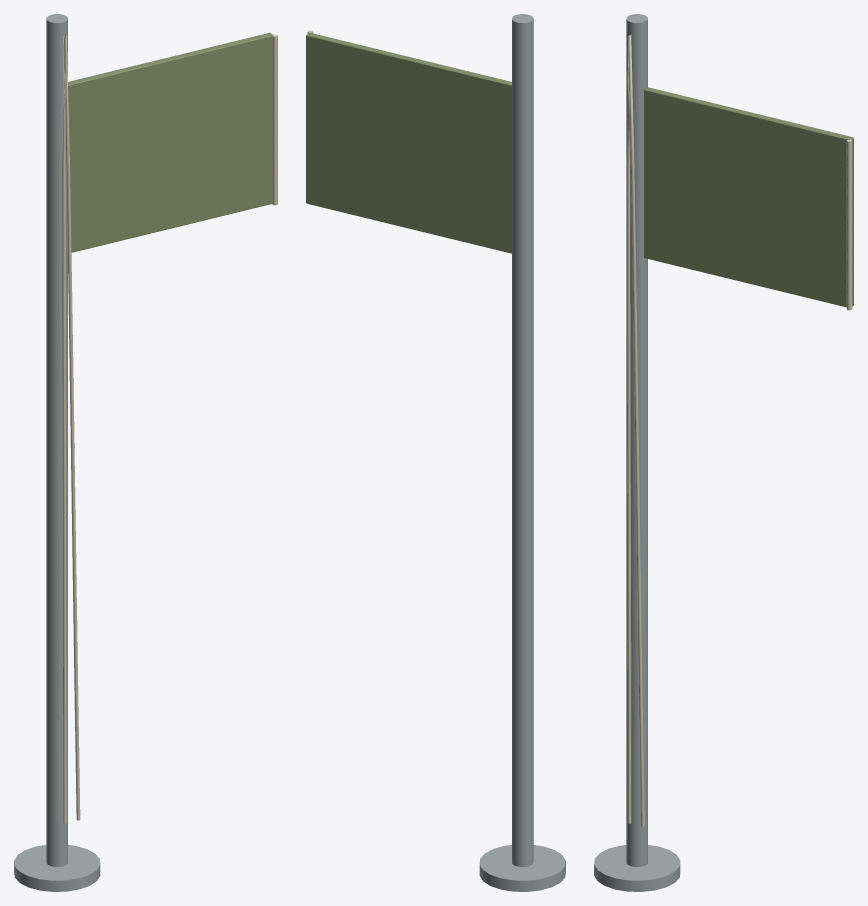
The picture shows the model from 3 angles, left to right: view 1: azimuth 30°, elevation 25°; view 2: azimuth 150°, elevation 25°; view 3: azimuth 330°, elevation 25°; orthographic projection.
Visible parts, largest first — view 1: flag-hoist; view 2: flag-hoist; view 3: flag-hoist.
Boxes of the visible parts, x1=… form: flag-hoist: x1=14, y1=14, x2=277, y2=891; flag-hoist: x1=306, y1=14, x2=565, y2=891; flag-hoist: x1=594, y1=14, x2=853, y2=891.
Bounding box in the file's own units: 0.9478 × 3.04 × 0.2798.
